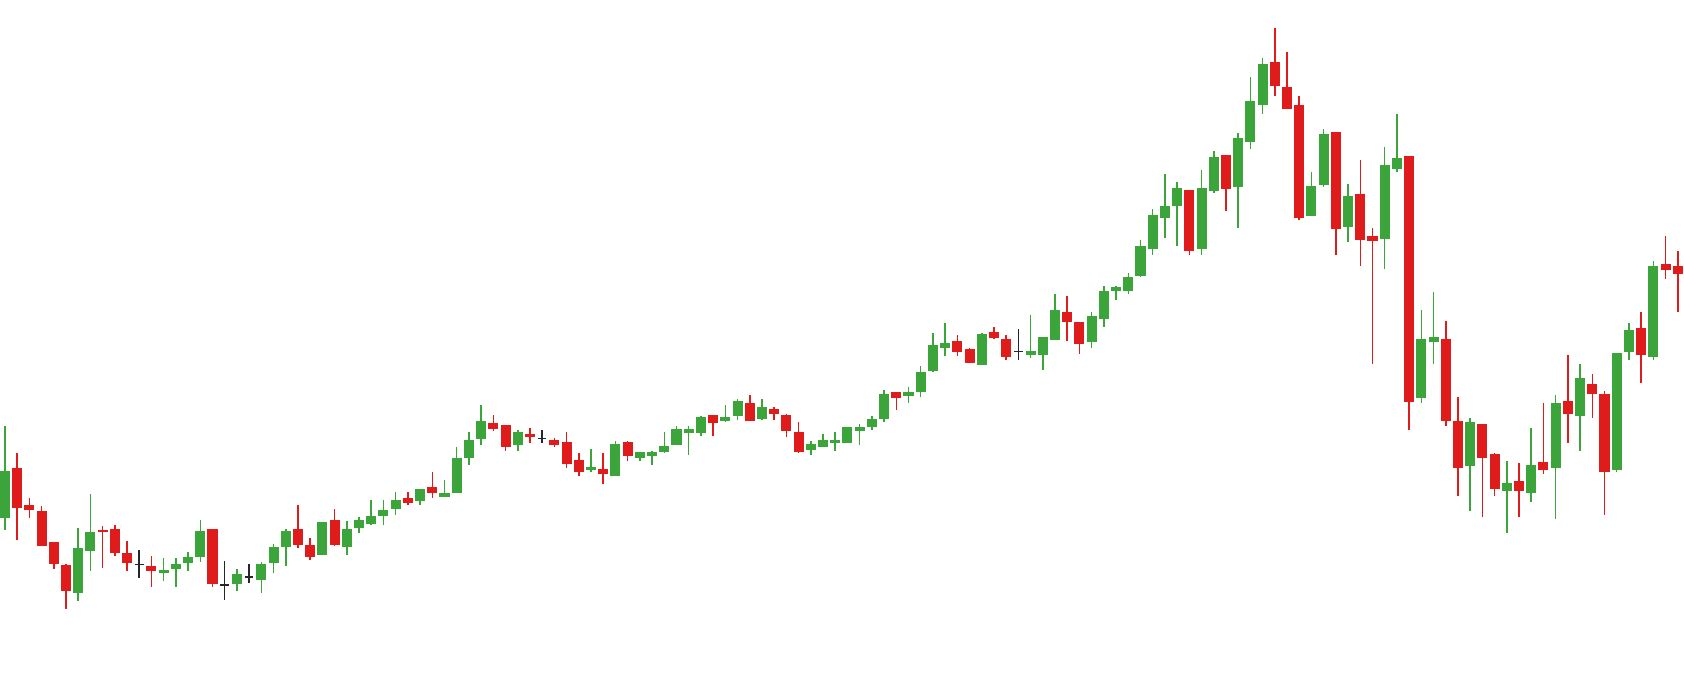sell: (1317, 115, 1403, 214)
